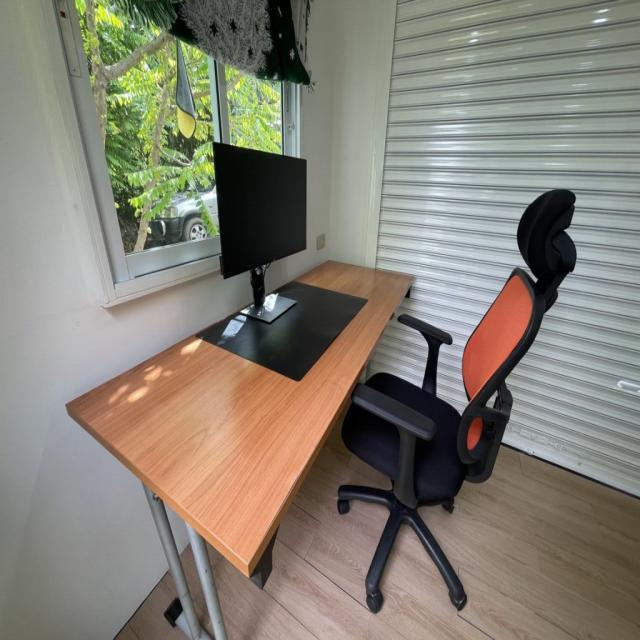table: (39, 248, 430, 572)
